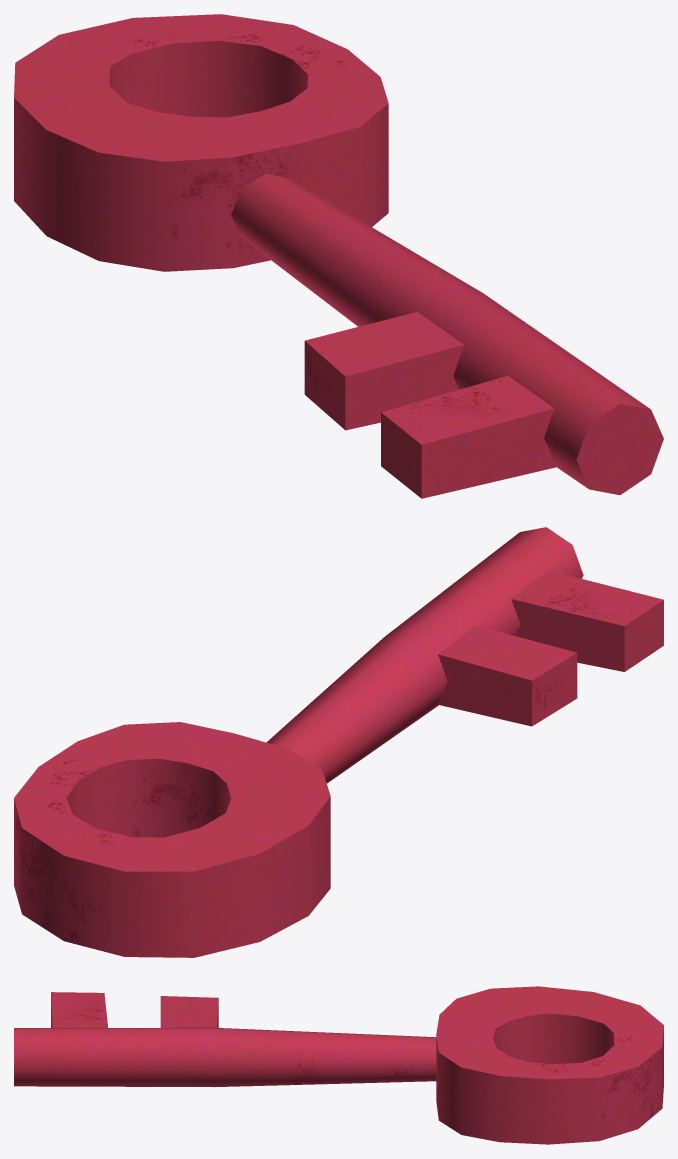
File: red_key_secret_neighbor.glb
3 views of the same model, one above another, from view 1: azimuth 30°, elevation 25°; view 2: azimuth 150°, elevation 25°; view 3: azimuth 270°, elevation 25° (orthographic). The views are drawn at different scales.
Parts seen in each view (by area): view 1: key; view 2: key; view 3: key.
Boxes of the visible parts, x1,y1,x2,y2 form: key: (14, 14, 663, 498); key: (14, 527, 663, 957); key: (14, 986, 663, 1144).
Size of the model in its own units: 0.0954 by 0.0313 by 0.2644.
1 material, 1 textured.
